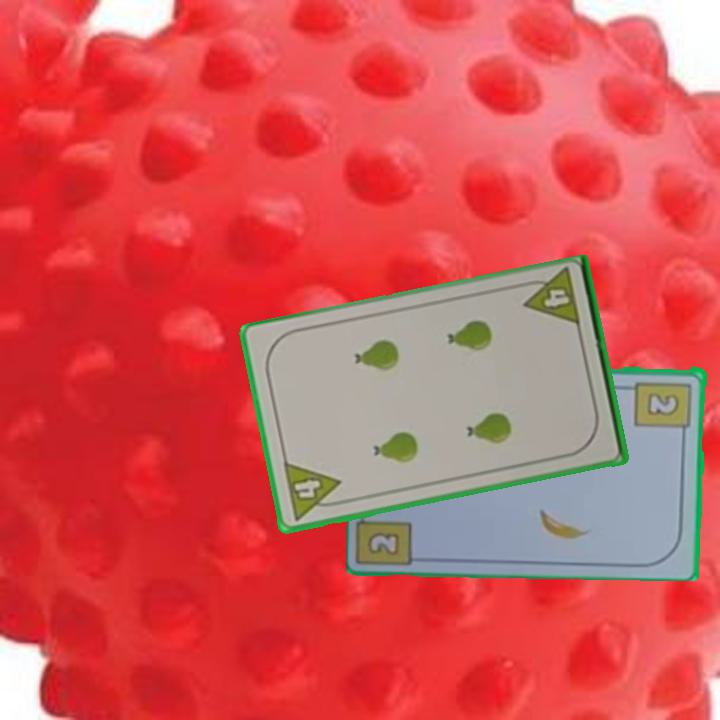2b: (633, 377, 695, 440), (368, 530, 400, 555)
4p: (280, 458, 347, 523), (517, 266, 583, 330)
